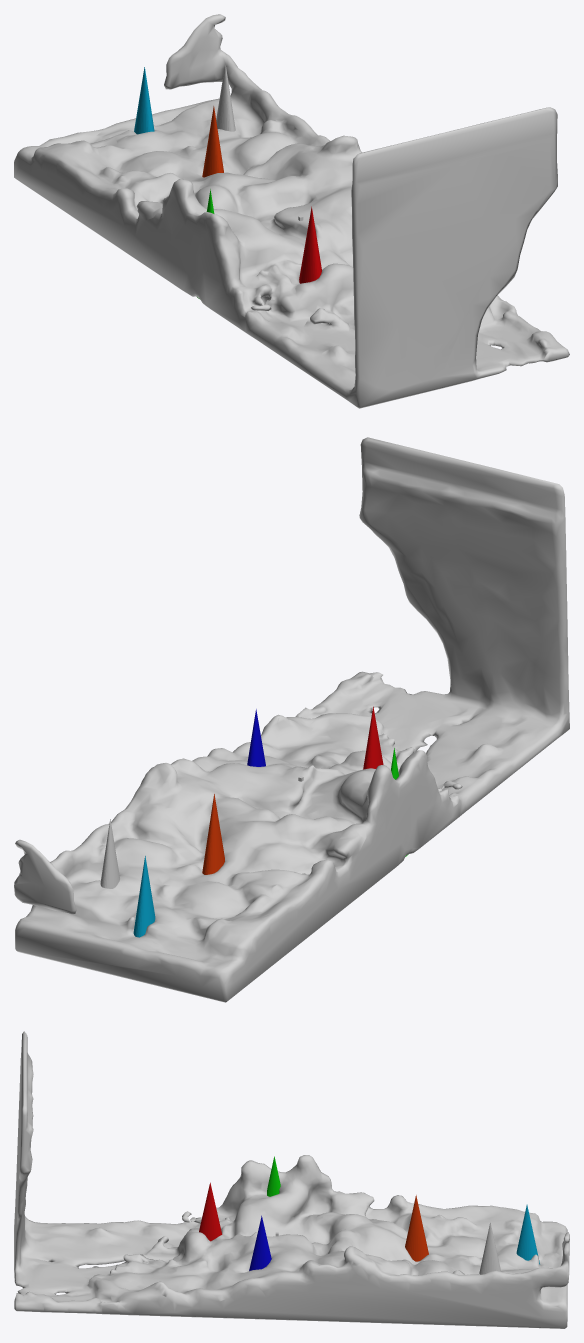
The picture shows the model from 3 angles, top to bottom: view 1: azimuth 30°, elevation 25°; view 2: azimuth 150°, elevation 25°; view 3: azimuth 270°, elevation 25°; orthographic projection. The views are drawn at different scales.
Parts seen in each view (by area): view 1: Liquid_Domain, 円錐.001, 円錐.004, 円錐, 円錐.005; view 2: Liquid_Domain, 円錐.004, 円錐.005, 円錐; view 3: Liquid_Domain, 円錐.004, 円錐.001, 円錐.005, 円錐.002, 円錐.
Part boxes in pixels (box(x1,y1,x2,y2)): Liquid_Domain: box(14, 14, 569, 408); 円錐.001: box(299, 206, 321, 283); 円錐.004: box(202, 106, 223, 177); 円錐: box(216, 63, 235, 131); 円錐.005: box(134, 67, 154, 134); Liquid_Domain: box(14, 437, 569, 1002); 円錐.004: box(202, 794, 224, 874); 円錐.005: box(133, 856, 155, 937); 円錐: box(100, 819, 119, 888); Liquid_Domain: box(14, 1031, 569, 1328); 円錐.004: box(405, 1195, 428, 1261); 円錐.001: box(199, 1182, 222, 1241); 円錐.005: box(516, 1204, 539, 1264); 円錐.002: box(249, 1215, 271, 1270); 円錐: box(479, 1222, 501, 1274).
Size of the model in its own units: 129 by 158 by 363.
